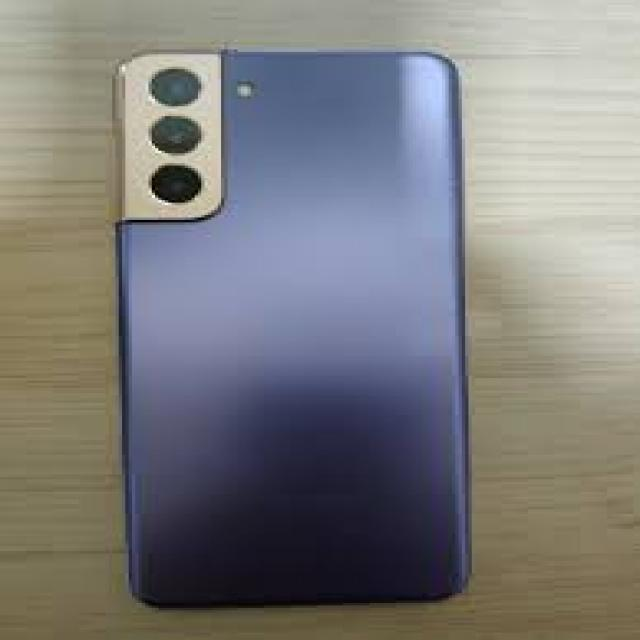Phone: (111, 52, 475, 608)
